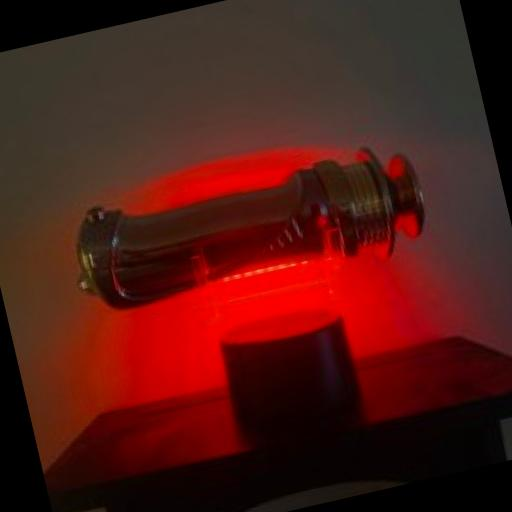lightsaber: (52, 117, 438, 330)
